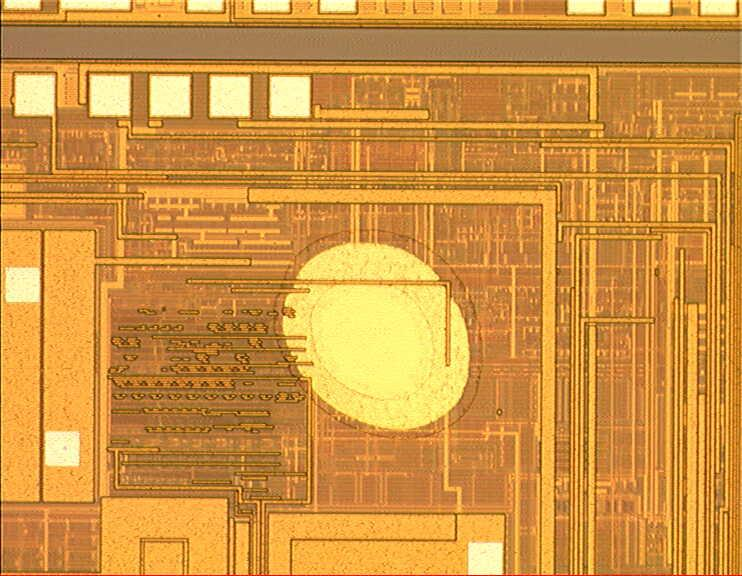BLOCK ETCH: (274, 228, 486, 444)
